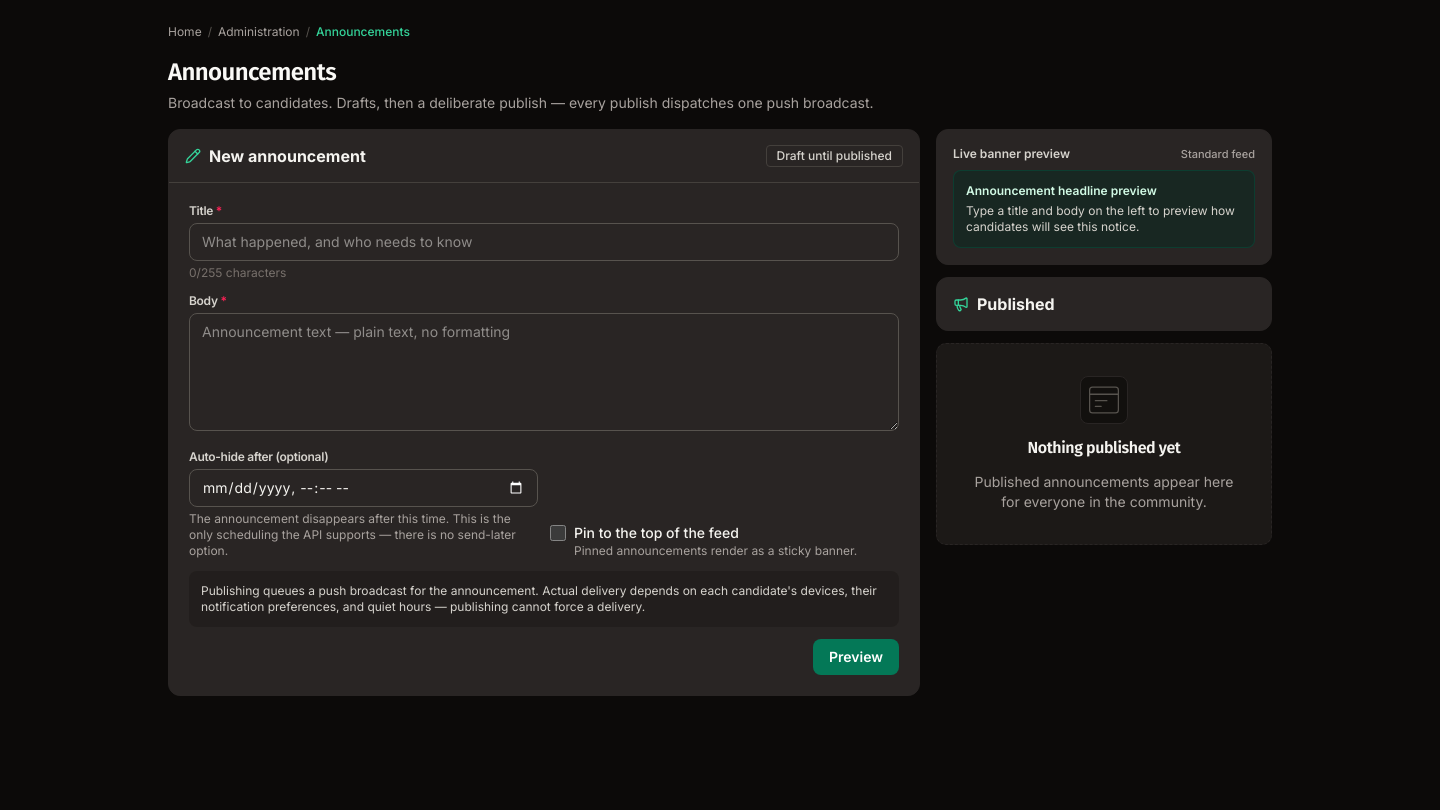
Test case: AdminAnnouncementsPage (9.5 Task 9) › requires title and body before preview
Click the button with test id "ann-preview": (856, 657) [813, 639, 899, 675]
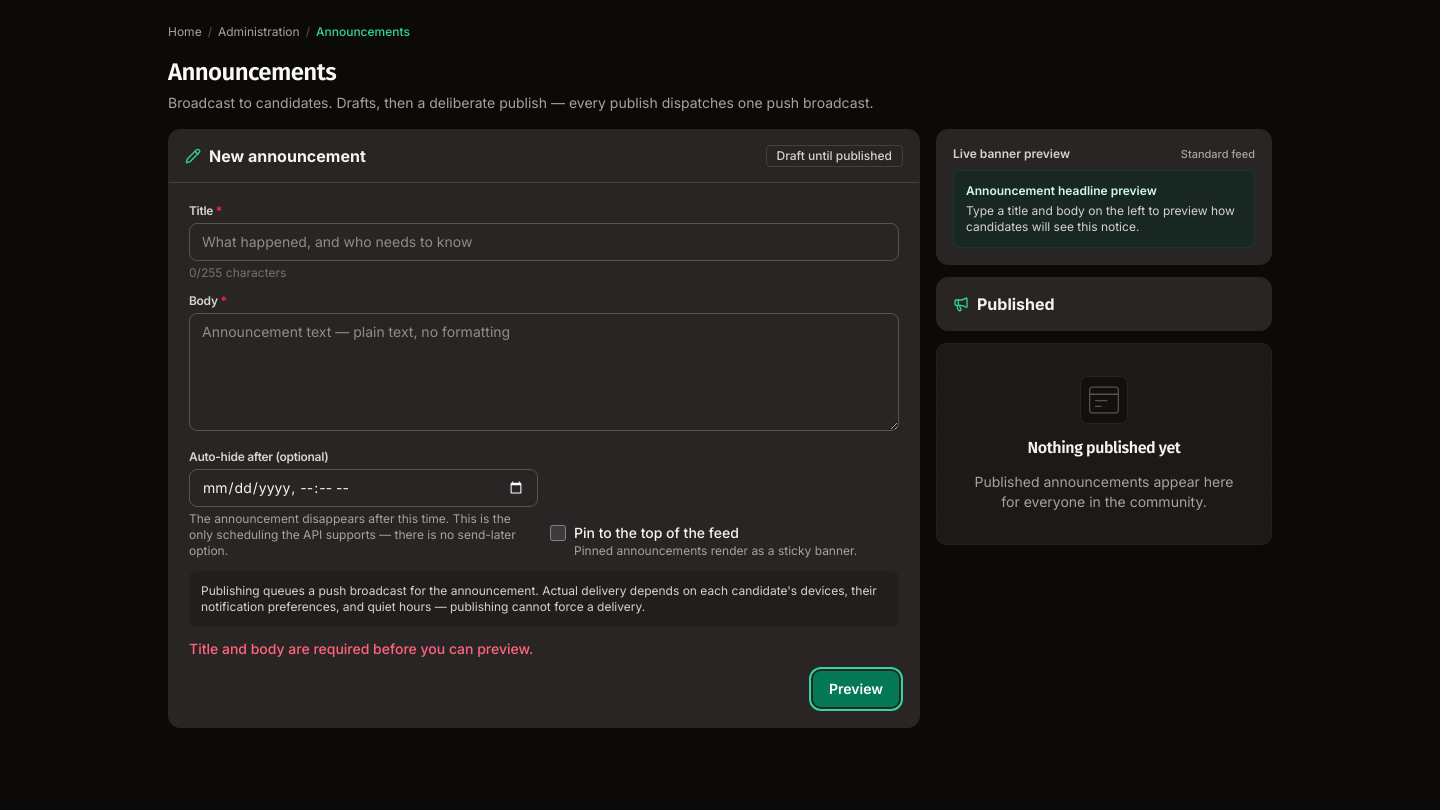
Result: the message shows "Title and body are required" at [189, 640, 533, 657]
